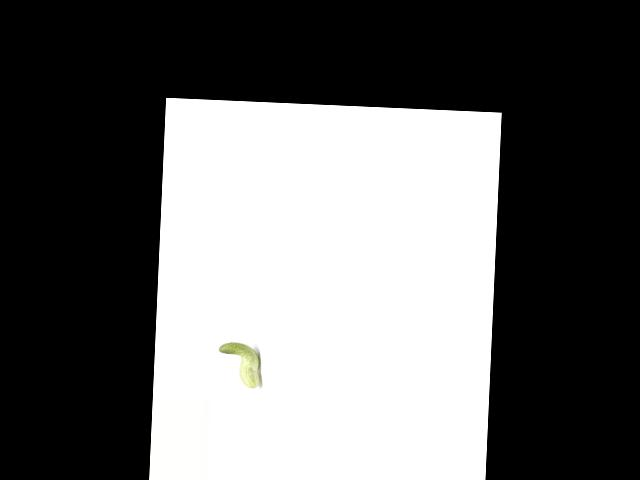cucumber: (217, 341, 261, 388)
